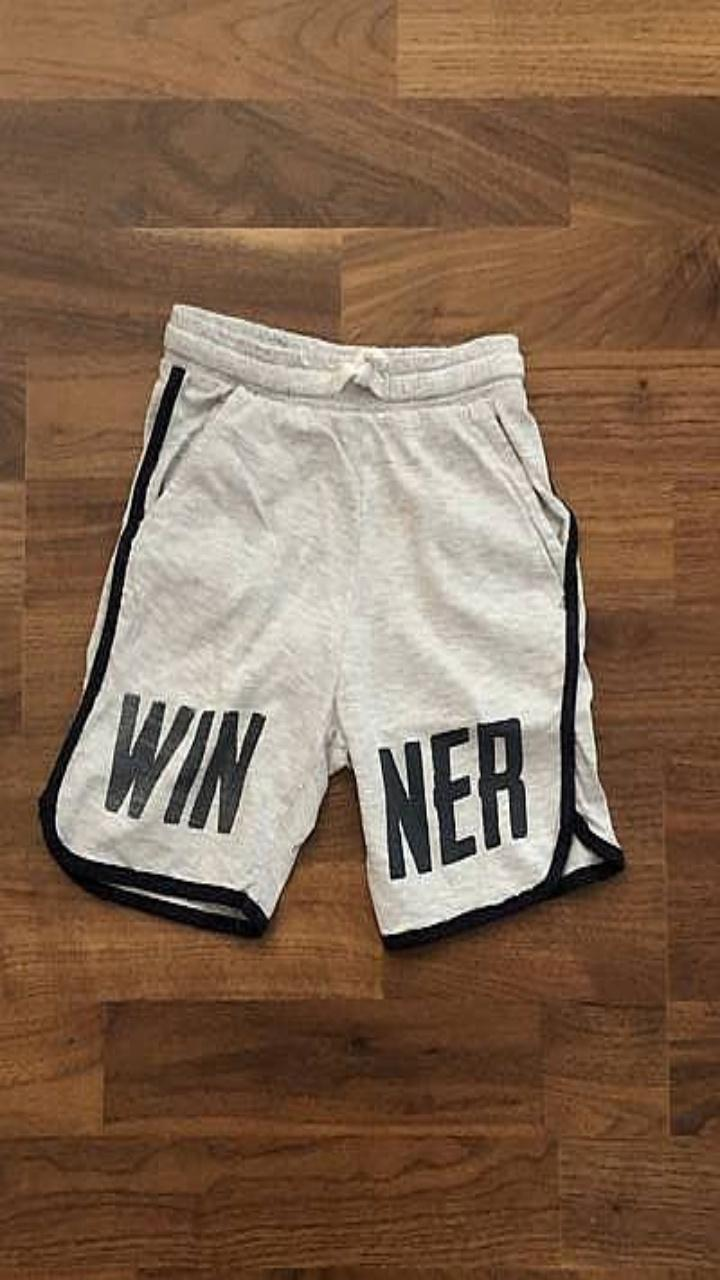Shorts: (39, 305, 624, 947)
